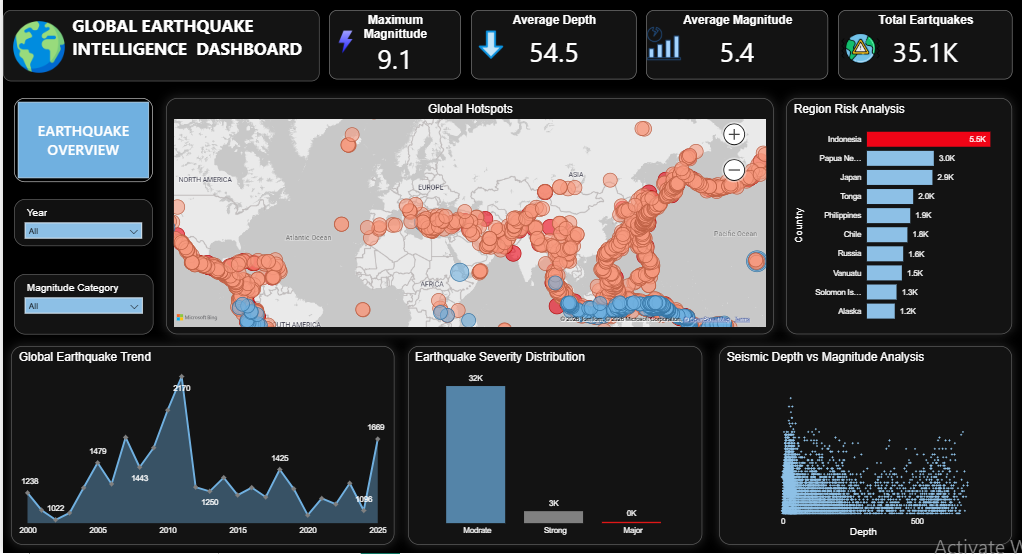

The page's visual inventory and layout, read from the dashboard file:
{"tool":"powerbi","page":{"name":"Global earthquake Analysis","canvas":[1600,876],"ordinal":0},"visuals":[{"type":"shape","box":[0,24.1,497.5,112],"z":0},{"type":"map","title":"Global Hotspots","fields":{"Y":["Earthquakes.latitude"],"X":["Earthquakes.longitude"],"Size":["Sum(Earthquakes.magnitude)"],"Series":["Earthquakes.Magnitude Category"]},"box":[255.2,162.1,953.6,370.7],"z":1000},{"type":"lineChart","title":"Global Earthquake Trend ","fields":{"Category":["Earthquakes.date.Variation.Date Hierarchy.Year"],"Y":["Earthquakes.Total Earthquakes"]},"box":[12.1,551.8,601.8,312.1],"z":2000},{"type":"columnChart","title":"Earthquake Severity Distribution","fields":{"Category":["Earthquakes.Magnitude Category"],"Y":["Earthquakes.Total Earthquakes"]},"box":[636.3,551.8,462.1,312.1],"z":3000},{"type":"scatterChart","title":"Seismic Depth vs Magnitude Analysis","fields":{"X":["Sum(Earthquakes.depth_km)"],"Y":["Earthquakes.magnitude"],"Size":["Earthquakes.Total Earthquakes"]},"box":[1124.3,551.8,460.4,312.1],"z":4000},{"type":"barChart","title":"Region Risk Analysis","fields":{"Category":["Earthquakes.Country "],"Y":["Earthquakes.Total Earthquakes"]},"box":[1229.5,162.1,355.2,370.7],"z":5000},{"type":"card","title":"Total Eartquakes","fields":{"Values":["Earthquakes.Total Earthquakes"]},"box":[1310.6,24.1,274.2,108.6],"z":6000},{"type":"card","title":"Maximum Magnittude","fields":{"Values":["Earthquakes.Maximum Magnitude"]},"box":[512.4,24.1,206.9,108.6],"z":7000},{"type":"card","title":"Average Depth","fields":{"Values":["Earthquakes.Average Depth"]},"box":[734.2,24.1,260.4,108.6],"z":8000},{"type":"card","title":"Average Magnitude","fields":{"Values":["Earthquakes.Average Magnitude"]},"box":[1009.4,24.1,286.3,108.6],"z":9000},{"type":"slicer","fields":{"Values":["Earthquakes.date.Variation.Date Hierarchy.Year"]},"box":[17.3,320.3,218.2,73.8],"z":10000},{"type":"slicer","fields":{"Values":["Earthquakes.Magnitude Category"]},"box":[17.2,438,219,94.8],"z":11000},{"type":"textbox","box":[103.5,24.1,384.5,108.6],"z":12000},{"type":"actionButton","box":[17.3,161.7,218.2,131.9],"z":13000},{"type":"image","box":[11.3,36.9,90.7,90.7],"z":14000},{"type":"image","box":[510.4,24.1,55.2,101.7],"z":15000},{"type":"image","box":[731.1,31,69,93.1],"z":16000},{"type":"image","box":[1003.6,37.9,69,77.6],"z":17000},{"type":"image","box":[1310.6,27.6,70.7,110.4],"z":18000}]}

Visuals, with their boxes in screenshot pixels (x1, y1, x2, y2), scaled from the page's 1600x876 canvas onto the 1022x554 screenshot:
shape: (left=0, top=15, right=318, bottom=86)
"Global Hotspots" map: (left=163, top=103, right=772, bottom=337)
"Global Earthquake Trend " lineChart: (left=8, top=349, right=392, bottom=546)
"Earthquake Severity Distribution" columnChart: (left=406, top=349, right=702, bottom=546)
"Seismic Depth vs Magnitude Analysis" scatterChart: (left=718, top=349, right=1012, bottom=546)
"Region Risk Analysis" barChart: (left=785, top=103, right=1012, bottom=337)
"Total Eartquakes" card: (left=837, top=15, right=1012, bottom=84)
"Maximum Magnittude" card: (left=327, top=15, right=459, bottom=84)
"Average Depth" card: (left=469, top=15, right=635, bottom=84)
"Average Magnitude" card: (left=645, top=15, right=828, bottom=84)
slicer - Earthquakes.date.Variation.Date Hierarchy.Year: (left=11, top=203, right=150, bottom=249)
slicer - Earthquakes.Magnitude Category: (left=11, top=277, right=151, bottom=337)
textbox: (left=66, top=15, right=312, bottom=84)
actionButton: (left=11, top=102, right=150, bottom=186)
image: (left=7, top=23, right=65, bottom=81)
image: (left=326, top=15, right=361, bottom=80)
image: (left=467, top=20, right=511, bottom=78)
image: (left=641, top=24, right=685, bottom=73)
image: (left=837, top=17, right=882, bottom=87)
